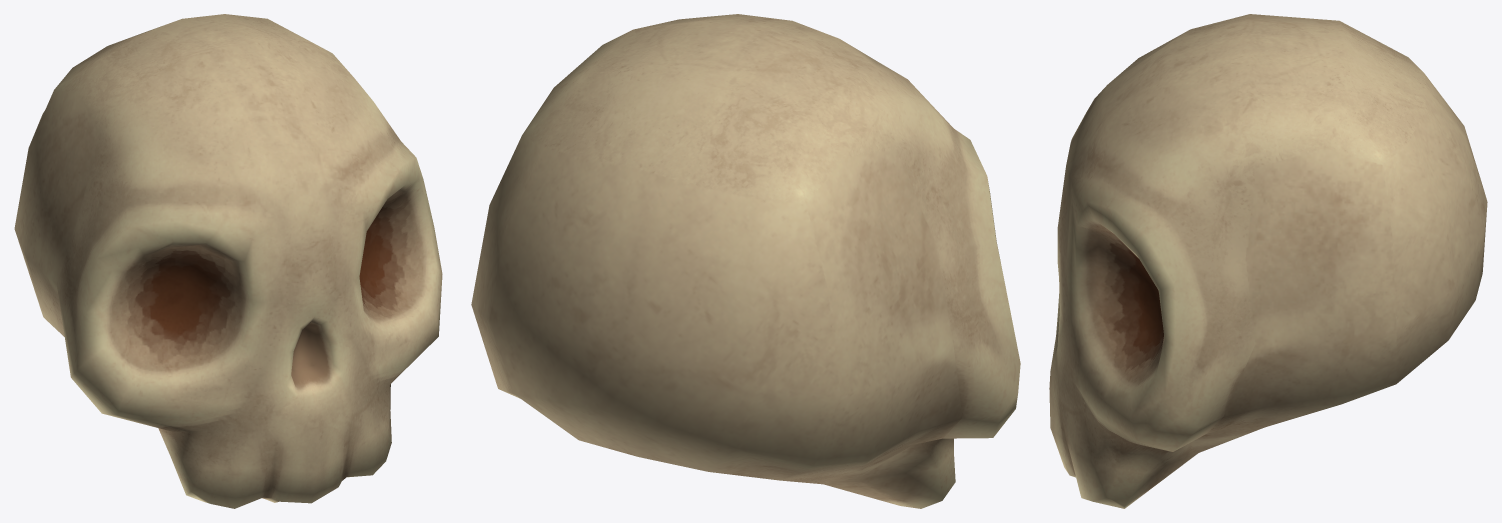
The model's file is skeletonSkull_exp1.fbx.
3 views of the same model, side by side, from view 1: azimuth 30°, elevation 25°; view 2: azimuth 150°, elevation 25°; view 3: azimuth 270°, elevation 25° (orthographic). The views are drawn at different scales.
Visible parts, largest first — view 1: skull; view 2: skull; view 3: skull.
Boxes of the visible parts, box(x1,y1,x2,y2) form: skull: box(14, 14, 442, 508); skull: box(471, 14, 1020, 508); skull: box(1049, 14, 1487, 508).
Bounding box in the file's own units: 107 × 113 × 102.
1 material, 1 textured.
